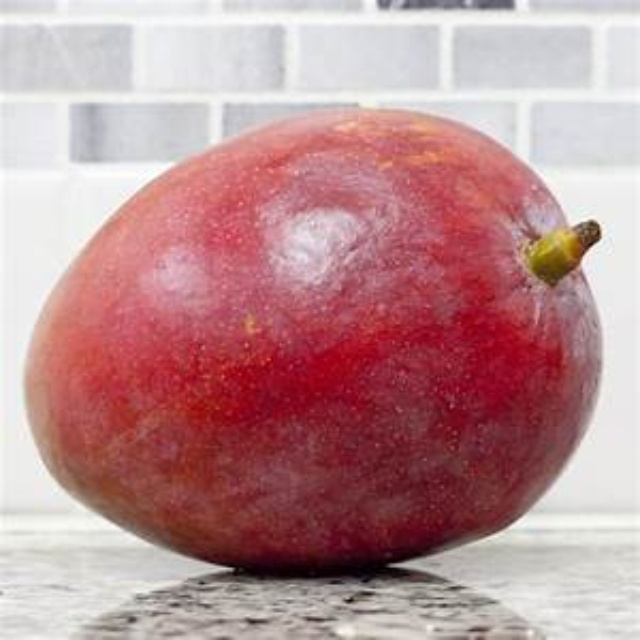mango: (26, 106, 612, 580)
